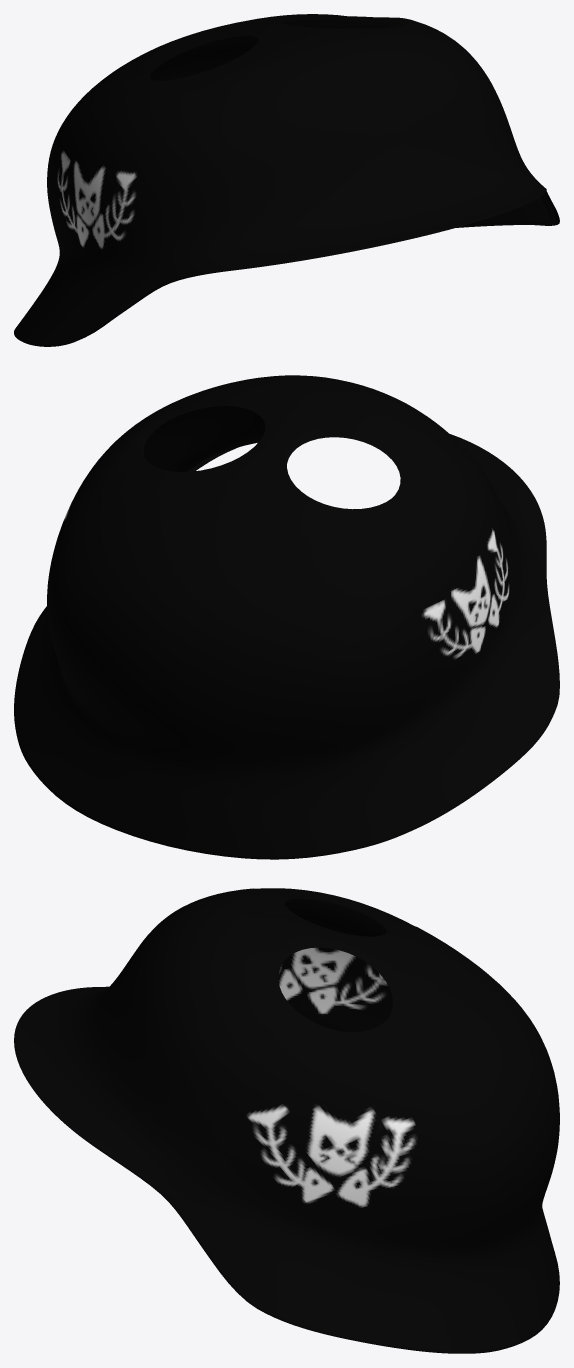
The model's file is G_katziHelm.fbx.
3 views of the same model, one above another, from view 1: azimuth 30°, elevation 25°; view 2: azimuth 150°, elevation 25°; view 3: azimuth 270°, elevation 25° (orthographic). The views are drawn at different scales.
Visible parts, largest first — view 1: Helm.001; view 2: Helm.001; view 3: Helm.001.
Boxes of the visible parts, left/top/right/bottom form: Helm.001: left=14, top=14, right=559, bottom=346; Helm.001: left=14, top=375, right=559, bottom=859; Helm.001: left=14, top=888, right=559, bottom=1353.
Size of the model in its own units: 37.58 by 24.62 by 33.67.
